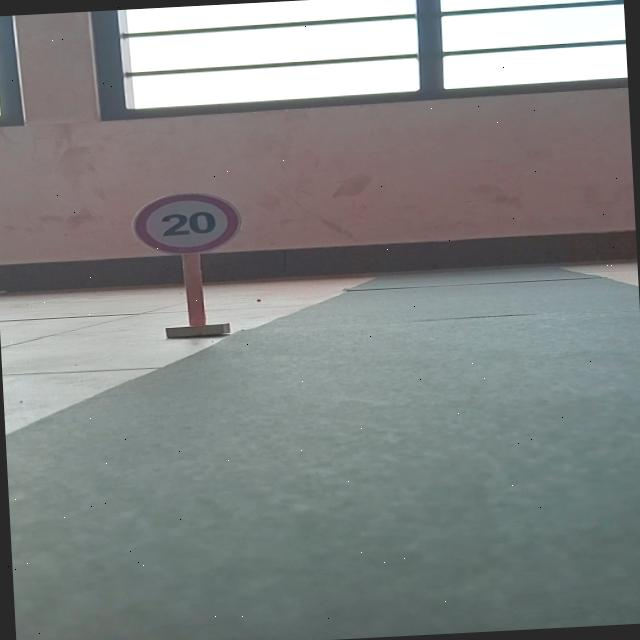Speed20: (122, 185, 250, 262)
